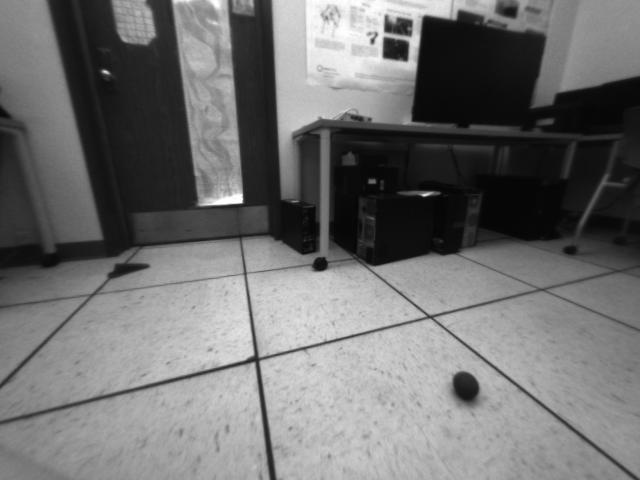dogtoy: (445, 363, 487, 413)
